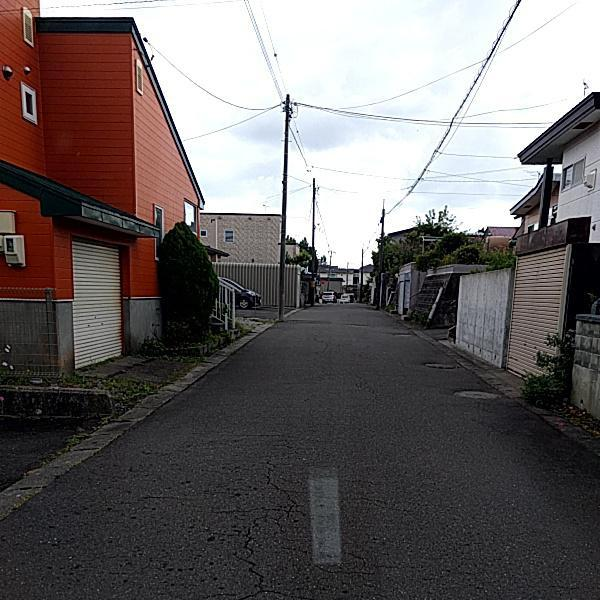D20: (182, 424, 340, 599)
D50: (452, 385, 503, 399)
